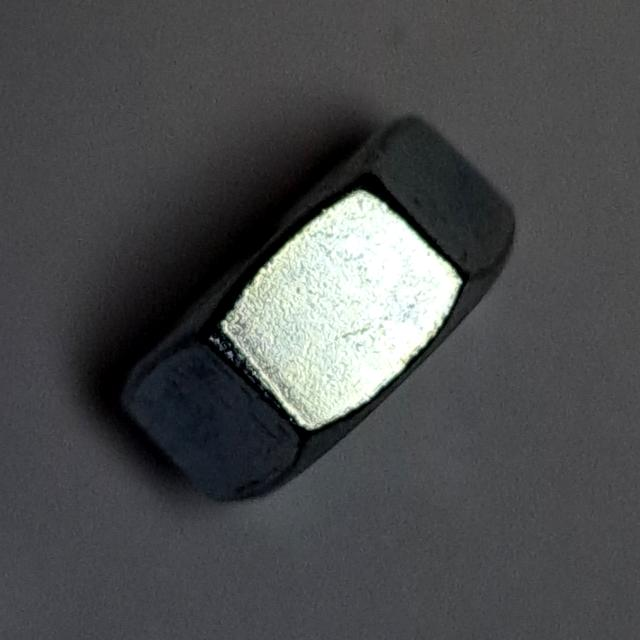Side_Excellent: (111, 102, 525, 516)
